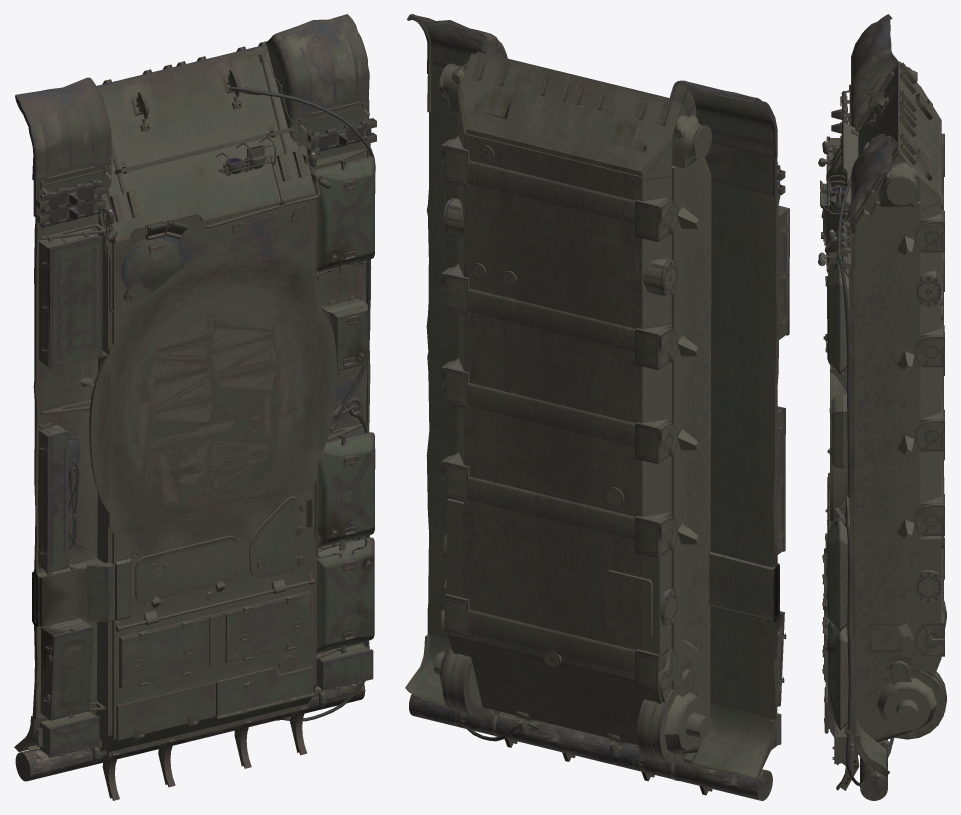
Rendered from Hull.glb.
The picture shows the model from 3 angles, left to right: view 1: azimuth 30°, elevation 25°; view 2: azimuth 150°, elevation 25°; view 3: azimuth 270°, elevation 25°; orthographic projection. The views are drawn at different scales.
Parts seen in each view (by area): view 1: set_0_group_0; view 2: set_0_group_0; view 3: set_0_group_0.
Boxes of the visible parts, bbox=[...] form: set_0_group_0: bbox=[14, 14, 376, 800]; set_0_group_0: bbox=[405, 14, 789, 800]; set_0_group_0: bbox=[818, 14, 946, 800].
Bounding box in the file's own units: 3.32 × 6.61 × 1.17.
1 material, 1 textured.
